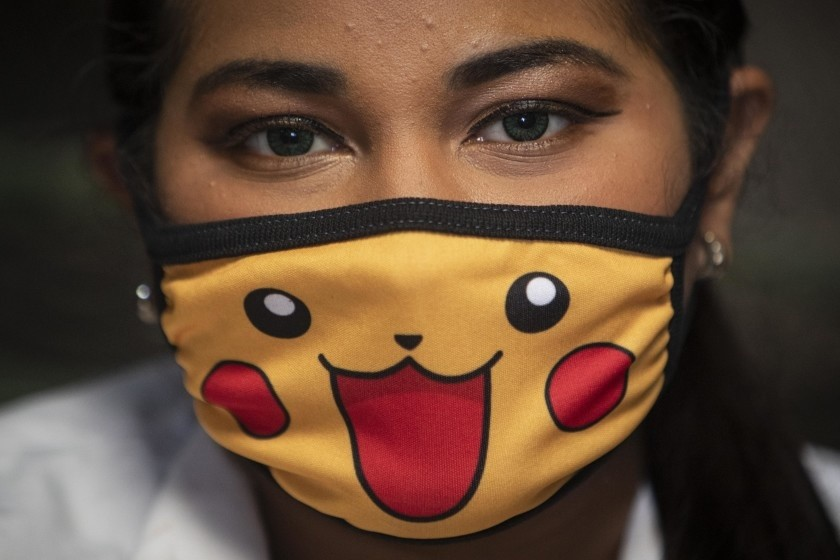face_with_mask: (135, 2, 774, 548)
